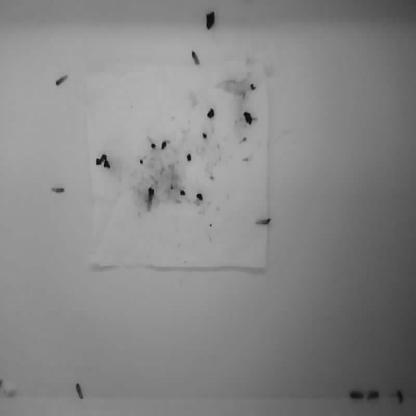PtecticusTenebrifer: (146, 186, 154, 214), (75, 382, 85, 401), (55, 74, 70, 86), (256, 216, 272, 226), (394, 388, 404, 404), (52, 183, 66, 193), (350, 390, 364, 398), (366, 390, 378, 399)
